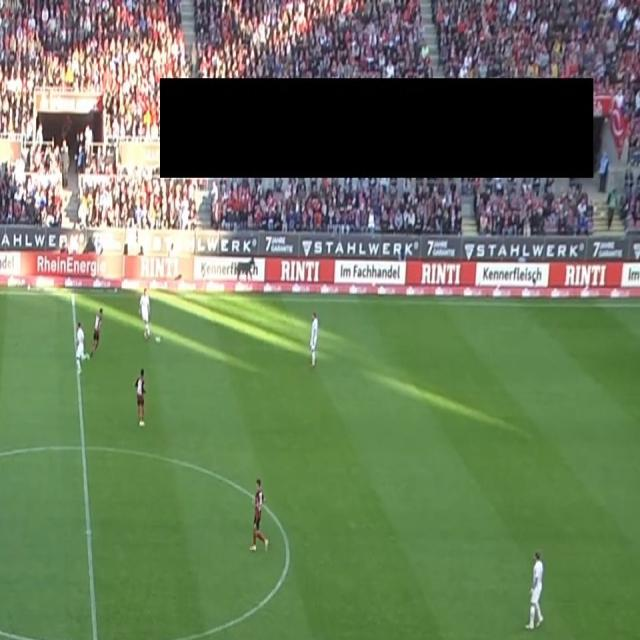ball: (154, 334, 162, 344)
